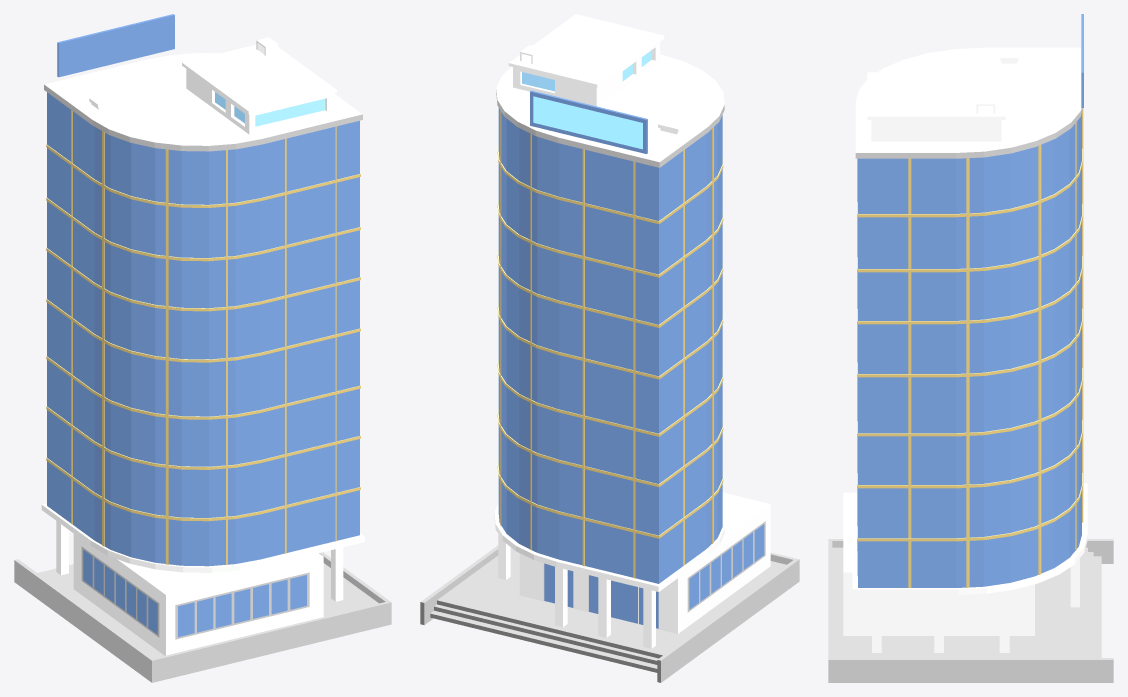
File: business centers.001.glb
3 views of the same model, side by side, from view 1: azimuth 30°, elevation 25°; view 2: azimuth 150°, elevation 25°; view 3: azimuth 270°, elevation 25° (orthographic). The views are drawn at different scales.
Parts seen in each view (by area): view 1: business centers.001(Clone); view 2: business centers.001(Clone); view 3: business centers.001(Clone).
Boxes of the visible parts, left/top/right/bottom form: business centers.001(Clone): left=14, top=14, right=391, bottom=682; business centers.001(Clone): left=420, top=14, right=799, bottom=682; business centers.001(Clone): left=828, top=14, right=1113, bottom=682.
Size of the model in its own units: 14.44 by 31.29 by 14.39.
1 material, 1 textured.
